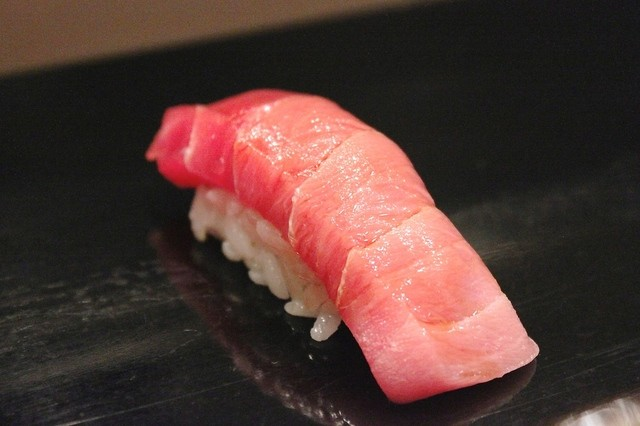medium_fatty_tuna: (145, 86, 543, 406)
